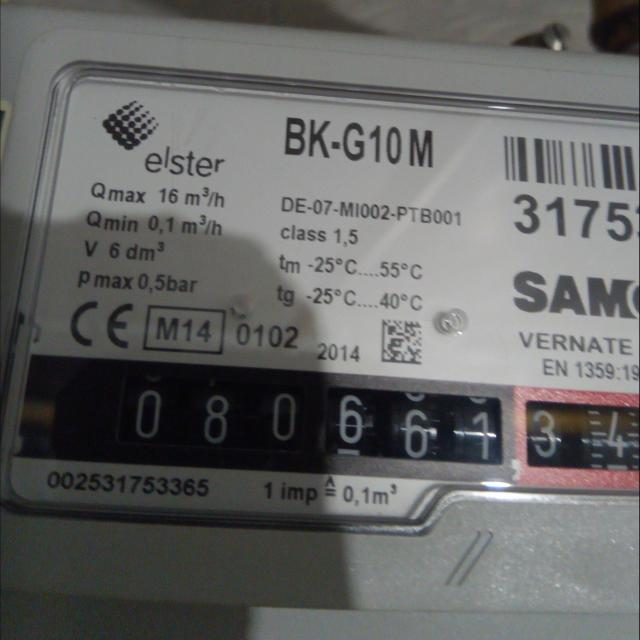gaz_meter: (34, 43, 635, 519)
indication: (37, 354, 636, 490)
